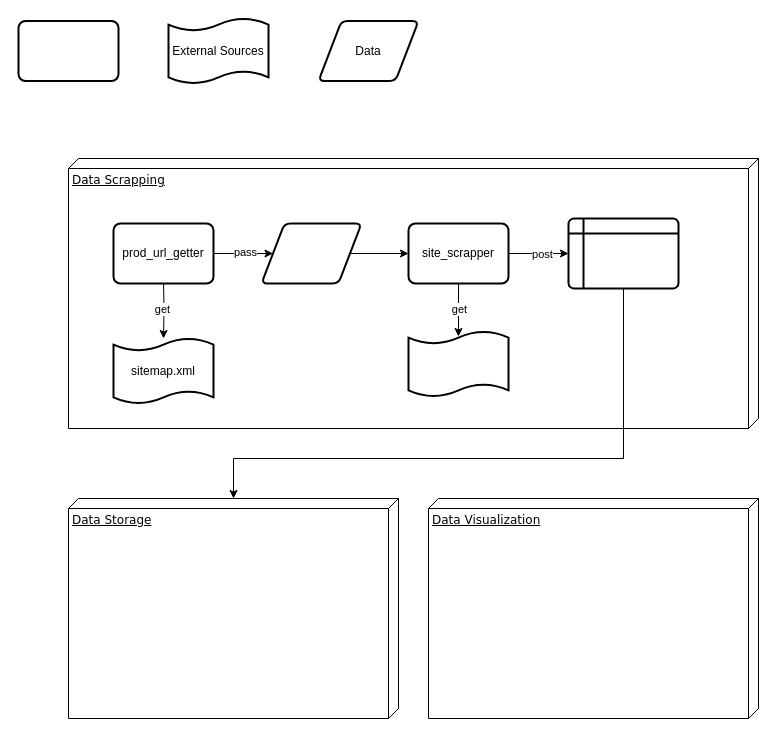
This 776x736 diagram has some shape labels left out. The box of each missing label's shape, as (x1, y1, x2, y2) in pixels:
api/products: (407, 330, 509, 397)
Processes: (17, 20, 119, 82)
prod_data: (567, 217, 679, 289)
prod_urls: (260, 222, 362, 284)
